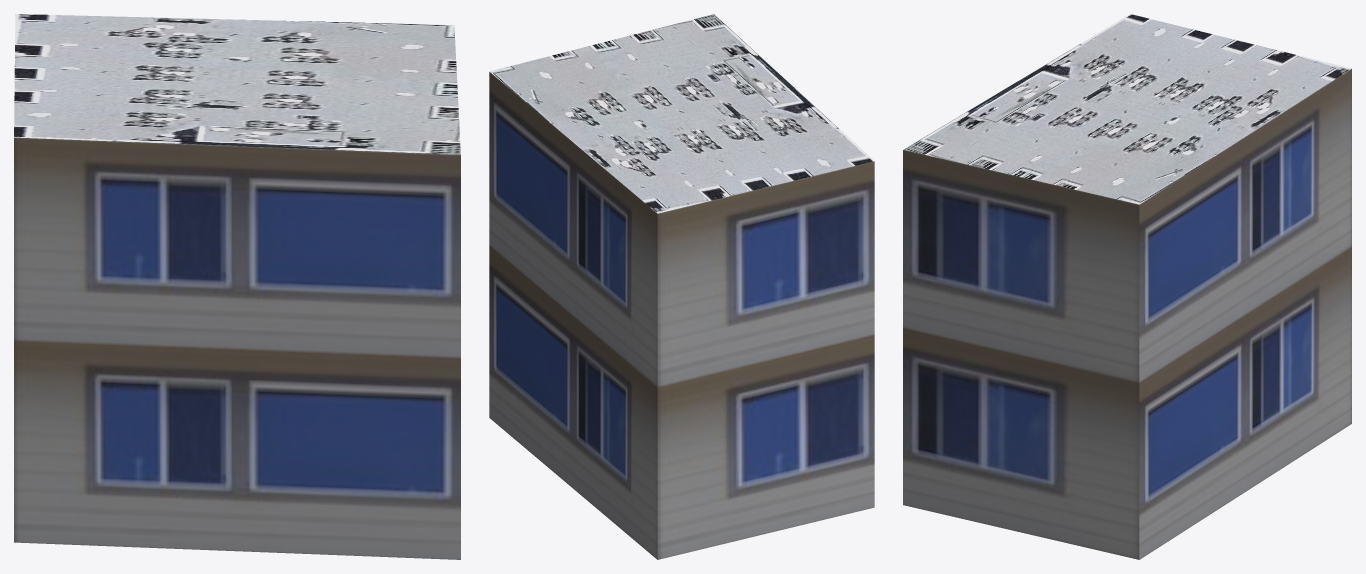
File: ResTex__2387.fbx
3 renders of one model, left to right at view 1: azimuth 30°, elevation 25°; view 2: azimuth 150°, elevation 25°; view 3: azimuth 270°, elevation 25°, orthographic. The views are drawn at different scales.
Visible parts, largest first — view 1: CityEngineMaterial_23_m, CityEngineMaterial_8_m; view 2: CityEngineMaterial_23_m, CityEngineMaterial_8_m; view 3: CityEngineMaterial_23_m, CityEngineMaterial_8_m.
Part boxes in pixels (x1=…): CityEngineMaterial_23_m: x1=14, y1=137, x2=460, y2=559; CityEngineMaterial_8_m: x1=14, y1=14, x2=460, y2=154; CityEngineMaterial_23_m: x1=489, y1=72, x2=874, y2=559; CityEngineMaterial_8_m: x1=489, y1=14, x2=874, y2=213; CityEngineMaterial_23_m: x1=903, y1=69, x2=1351, y2=559; CityEngineMaterial_8_m: x1=903, y1=14, x2=1351, y2=204.
Bounding box in the file's own units: 6.91 × 6 × 6.87.
Materials: 2 (2 with a texture image).
